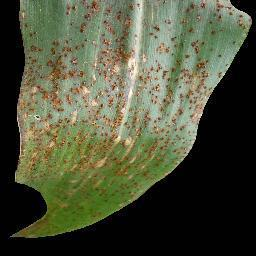Corn_Common_Rust: (10, 0, 125, 240), (126, 0, 251, 207)
